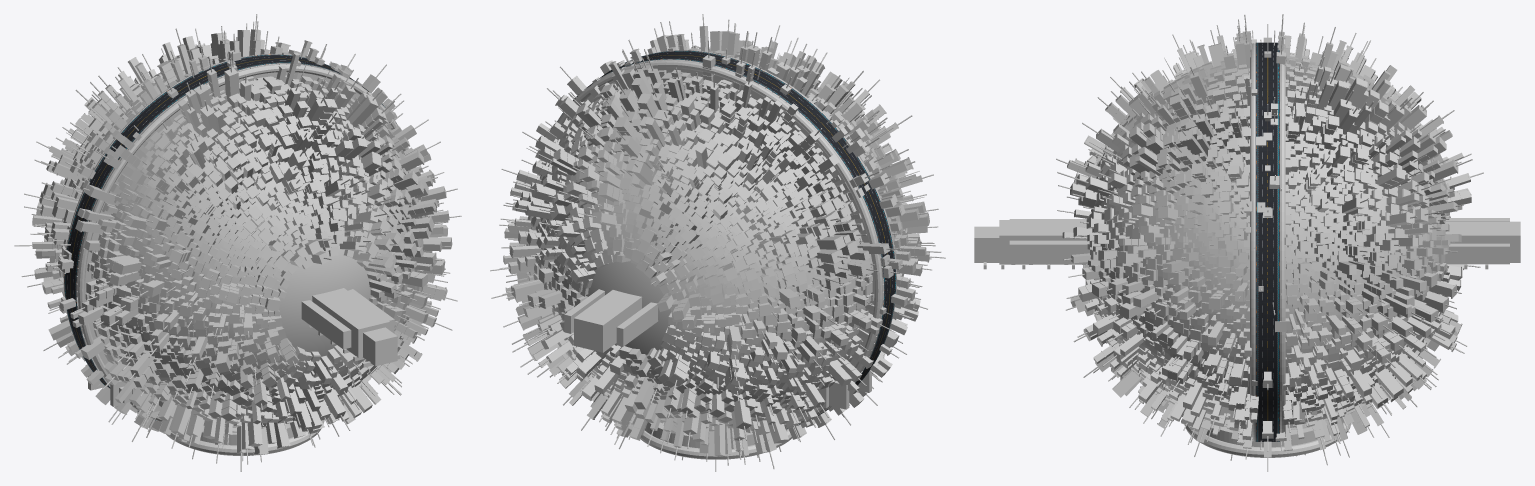
The model's file is building.obj.
3 renders of one model, left to right at view 1: azimuth 30°, elevation 25°; view 2: azimuth 150°, elevation 25°; view 3: azimuth 270°, elevation 25°, orthographic.
Visible parts, largest first — view 1: 02_|_Megaciudad_radial_-_edificios_y_distritos, 03_|_Fachadas,_ventanas_y_cubiertas_en_relieve, 01_|_Casco_esferico_planetario, 04_|_Agujas_y_antenas_urbanas, 05_|_Torre_axial_y_contrafuertes, Building_|_Autopista_circular_360, 07_|_Borde_mecanico_del_cinturon.001, 06_|_Cinturon_ecuatorial_macizo, 12_|_Anillo_concentrico_del_puerto, 15_|_Agujas_de_horizonte, 07_|_Borde_mecanico_del_cinturon, 14_|_Terrazas_de_la_megaciudad; view 2: 02_|_Megaciudad_radial_-_edificios_y_distritos, 03_|_Fachadas,_ventanas_y_cubiertas_en_relieve, 01_|_Casco_esferico_planetario, 04_|_Agujas_y_antenas_urbanas, Building_|_Autopista_circular_360, 05_|_Torre_axial_y_contrafuertes, 07_|_Borde_mecanico_del_cinturon, 06_|_Cinturon_ecuatorial_macizo, 12_|_Anillo_concentrico_del_puerto, 14_|_Terrazas_de_la_megaciudad, 15_|_Agujas_de_horizonte, 07_|_Borde_mecanico_del_cinturon.001 (+1 smaller); view 3: 02_|_Megaciudad_radial_-_edificios_y_distritos, 03_|_Fachadas,_ventanas_y_cubiertas_en_relieve, Building_|_Autopista_circular_360, 05_|_Torre_axial_y_contrafuertes, 04_|_Agujas_y_antenas_urbanas, 01_|_Casco_esferico_planetario, 07_|_Borde_mecanico_del_cinturon.001, 07_|_Borde_mecanico_del_cinturon, 12_|_Anillo_concentrico_del_puerto, 09_|_Plataforma_circular_frontal, 15_|_Agujas_de_horizonte.
Part boxes in pixels (x1,y1,x2,y2): 02_|_Megaciudad_radial_-_edificios_y_distritos: [32, 29, 452, 455]; 03_|_Fachadas,_ventanas_y_cubiertas_en_relieve: [34, 30, 449, 454]; 01_|_Casco_esferico_planetario: [110, 101, 378, 386]; 04_|_Agujas_y_antenas_urbanas: [14, 14, 461, 471]; 05_|_Torre_axial_y_contrafuertes: [301, 288, 400, 367]; Building_|_Autopista_circular_360: [64, 54, 397, 420]; 07_|_Borde_mecanico_del_cinturon.001: [77, 64, 414, 421]; 06_|_Cinturon_ecuatorial_macizo: [76, 63, 391, 364]; 12_|_Anillo_concentrico_del_puerto: [166, 419, 324, 455]; 15_|_Agujas_de_horizonte: [35, 52, 430, 450]; 07_|_Borde_mecanico_del_cinturon: [63, 54, 354, 377]; 14_|_Terrazas_de_la_megaciudad: [88, 373, 191, 412]; 02_|_Megaciudad_radial_-_edificios_y_distritos: [503, 26, 929, 456]; 03_|_Fachadas,_ventanas_y_cubiertas_en_relieve: [503, 31, 929, 455]; 01_|_Casco_esferico_planetario: [565, 98, 850, 371]; 04_|_Agujas_y_antenas_urbanas: [490, 14, 945, 471]; Building_|_Autopista_circular_360: [557, 50, 896, 429]; 05_|_Torre_axial_y_contrafuertes: [564, 289, 658, 352]; 07_|_Borde_mecanico_del_cinturon: [537, 60, 882, 428]; 06_|_Cinturon_ecuatorial_macizo: [568, 59, 883, 371]; 12_|_Anillo_concentrico_del_puerto: [640, 429, 792, 459]; 14_|_Terrazas_de_la_megaciudad: [793, 369, 871, 413]; 15_|_Agujas_de_horizonte: [508, 32, 924, 440]; 07_|_Borde_mecanico_del_cinturon.001: [600, 50, 896, 331]; 02_|_Megaciudad_radial_-_edificios_y_distritos: [1062, 31, 1471, 457]; 03_|_Fachadas,_ventanas_y_cubiertas_en_relieve: [1063, 32, 1470, 451]; Building_|_Autopista_circular_360: [1255, 42, 1279, 441]; 05_|_Torre_axial_y_contrafuertes: [974, 218, 1520, 269]; 04_|_Agujas_y_antenas_urbanas: [1056, 14, 1483, 471]; 01_|_Casco_esferico_planetario: [1124, 78, 1418, 399]; 07_|_Borde_mecanico_del_cinturon.001: [1250, 43, 1255, 441]; 07_|_Borde_mecanico_del_cinturon: [1280, 44, 1285, 436]; 12_|_Anillo_concentrico_del_puerto: [1184, 422, 1351, 457]; 09_|_Plataforma_circular_frontal: [1206, 417, 1343, 447]; 15_|_Agujas_de_horizonte: [1089, 51, 1450, 385].
Bounding box in the file's own units: 12.75 × 12.89 × 15.45.
Materials: 9 (1 with a texture image).
